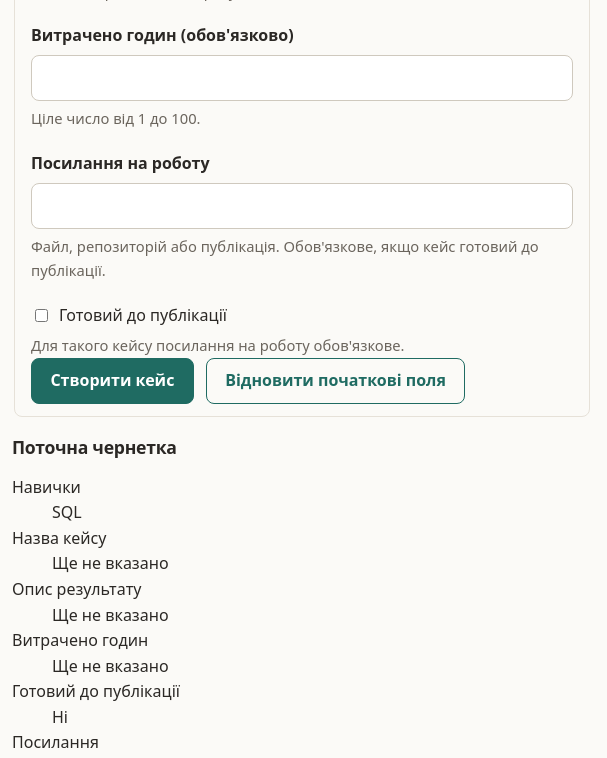
Scenario: не зберігає порожню назву та пояснює помилку
(page scrolled)
Step 1. Click the button "Створити кейс" → (112, 381), box top-left (31, 358), bottom-right (194, 404)
(page scrolled)
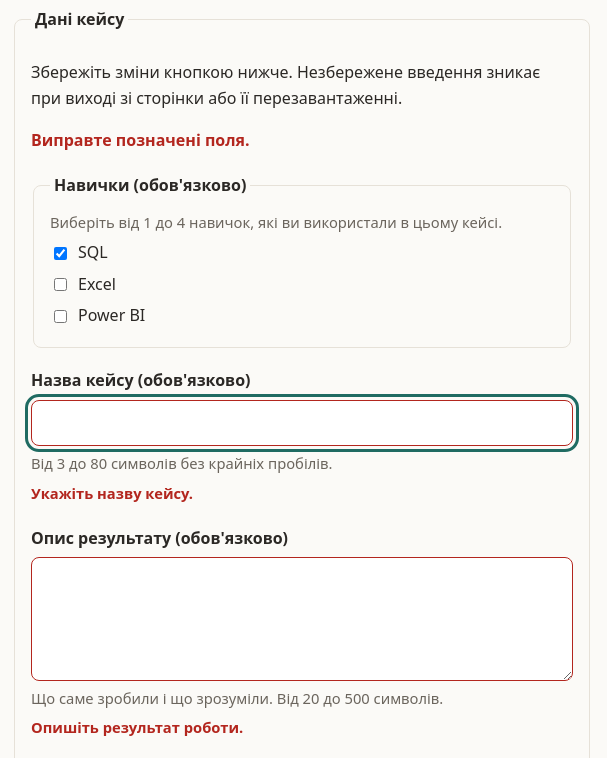
Expected: the message reads "Виправте позначені поля.", top-left (31, 129), bottom-right (250, 151)
